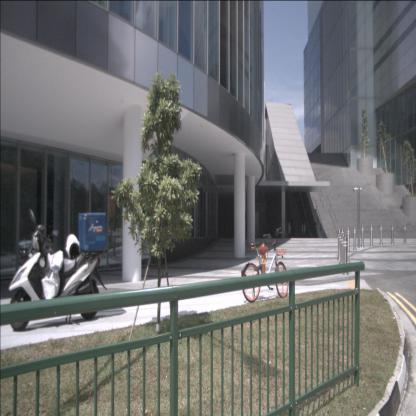vehicle-bicycle: (241, 226, 289, 304)
vehicle-motorcycle: (8, 209, 107, 332)
